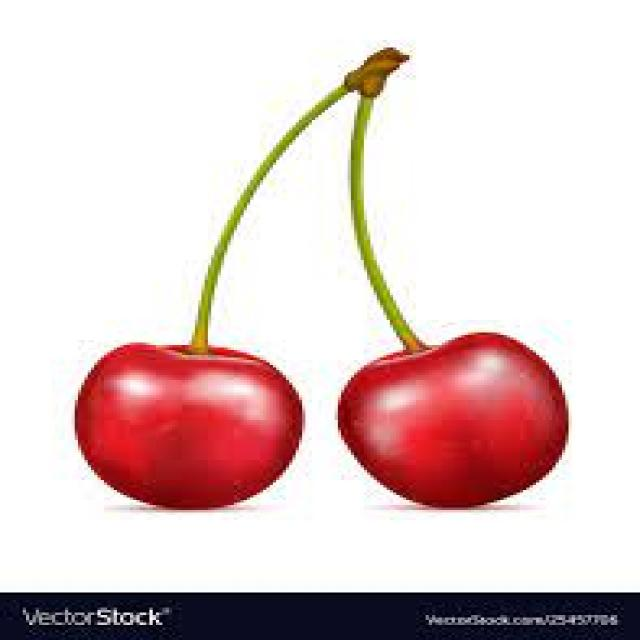cherry: (78, 43, 581, 505)
